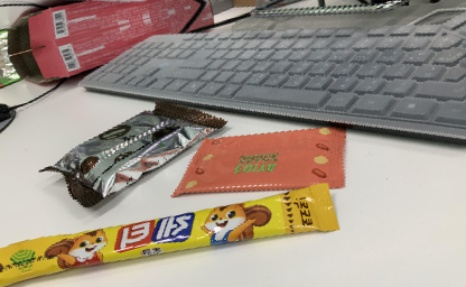jt: (20, 156, 348, 287)
mon: (26, 80, 243, 222)
pota: (157, 98, 368, 233)
